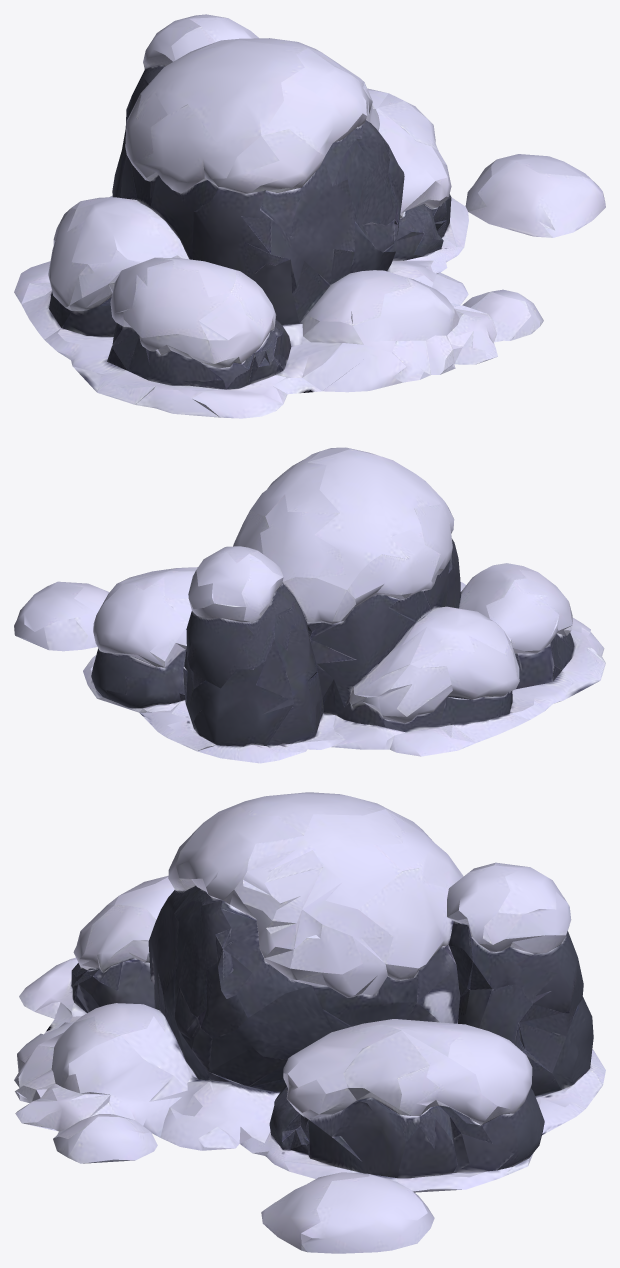
The model's file is rocks.glb.
3 views of the same model, one above another, from view 1: azimuth 30°, elevation 25°; view 2: azimuth 150°, elevation 25°; view 3: azimuth 270°, elevation 25° (orthographic). The views are drawn at different scales.
Visible parts, largest first — view 1: output_unwrapped; view 2: output_unwrapped; view 3: output_unwrapped.
Boxes of the visible parts, x1,y1,x2,y2 form: output_unwrapped: (14, 14, 605, 418); output_unwrapped: (14, 447, 605, 763); output_unwrapped: (14, 792, 605, 1253).
Size of the model in its own units: 1.9 by 0.7549 by 1.53.
1 material, 1 textured.
